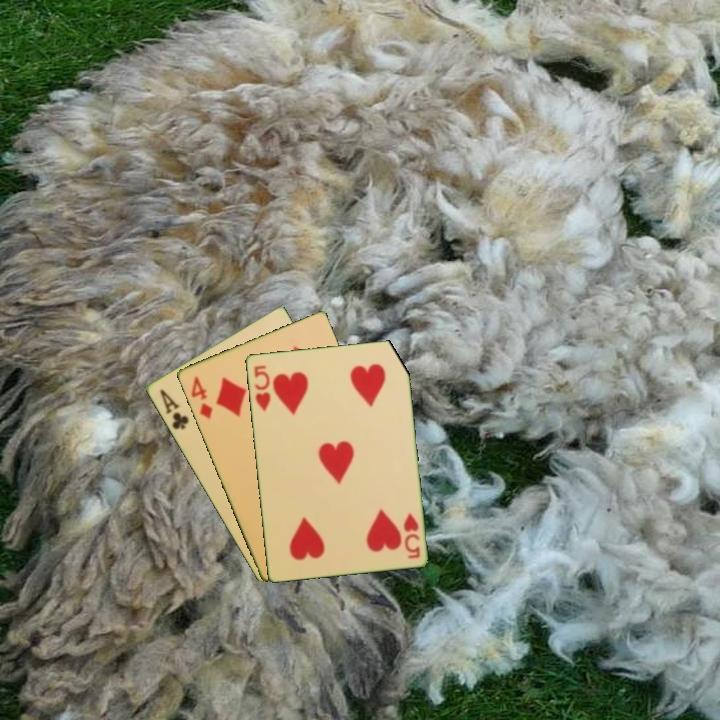4d: (187, 373, 215, 422)
5h: (250, 361, 273, 414), (400, 509, 423, 561)
Ac: (156, 385, 192, 432)
